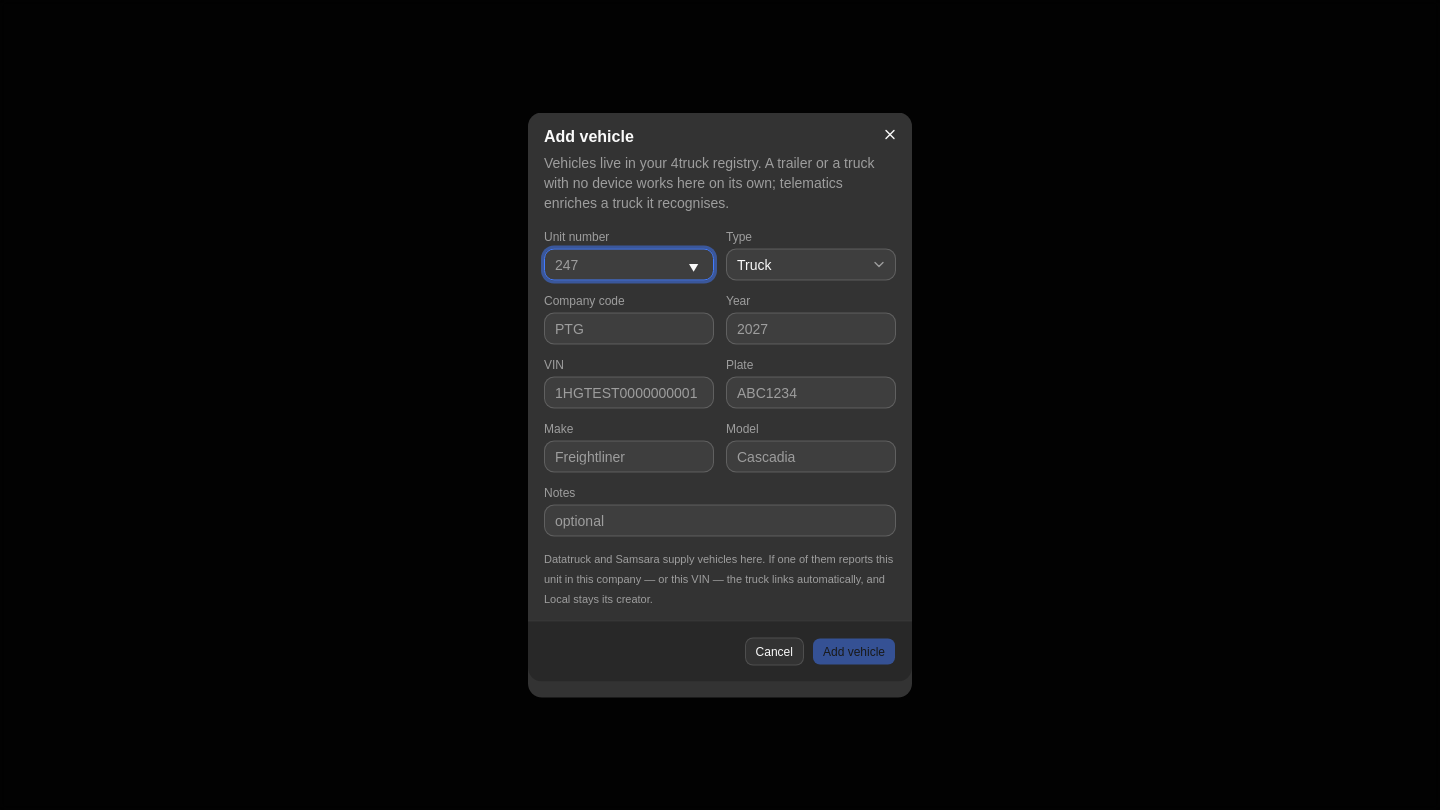
Test: Add vehicle — matching the typed identity › names the company that was typed, not the first row that matched
Type "103" into the field with placeholder "247" at (629, 264), box [544,248,714,280]
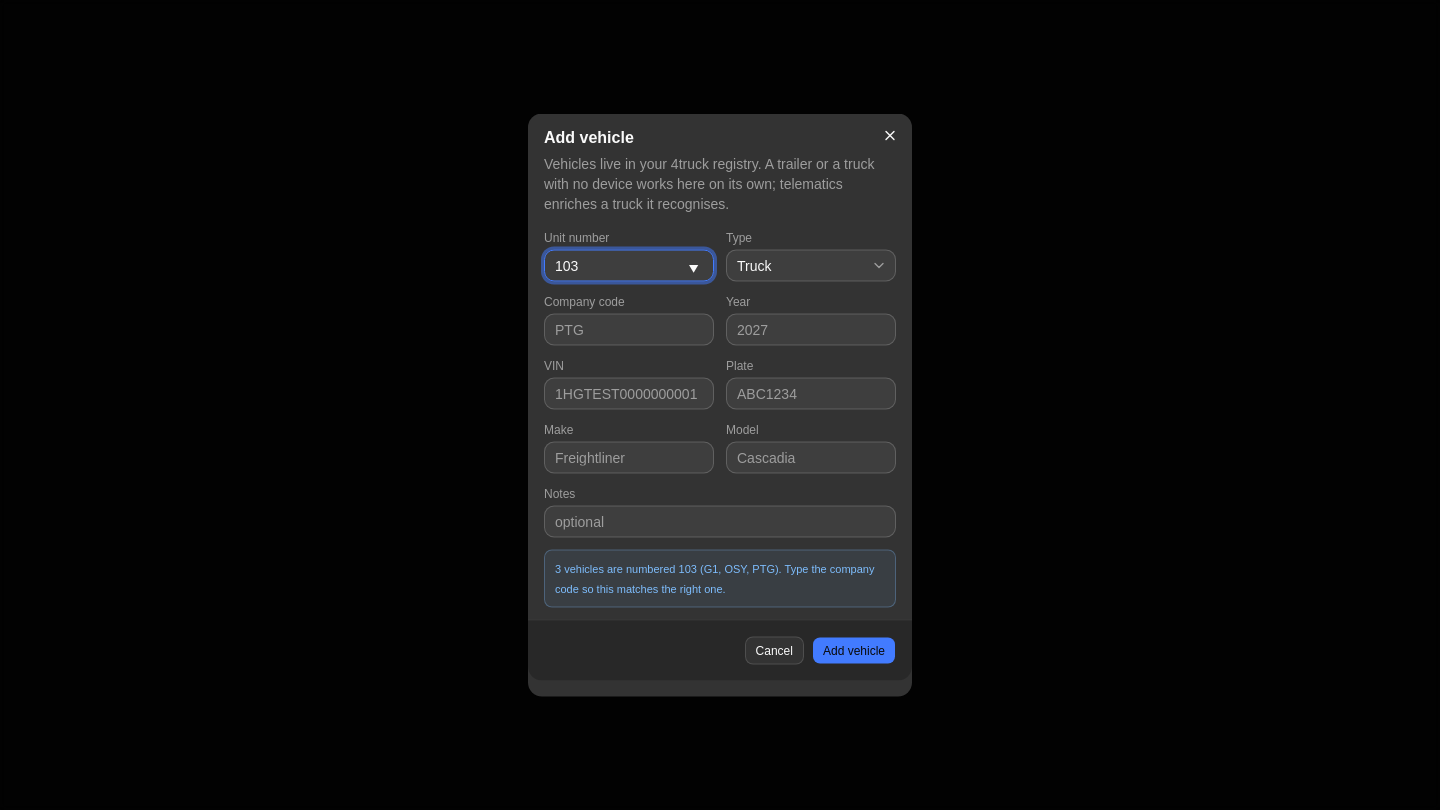
Type "OSY" into the field with placeholder "PTG" at (629, 330), box [544,314,714,346]
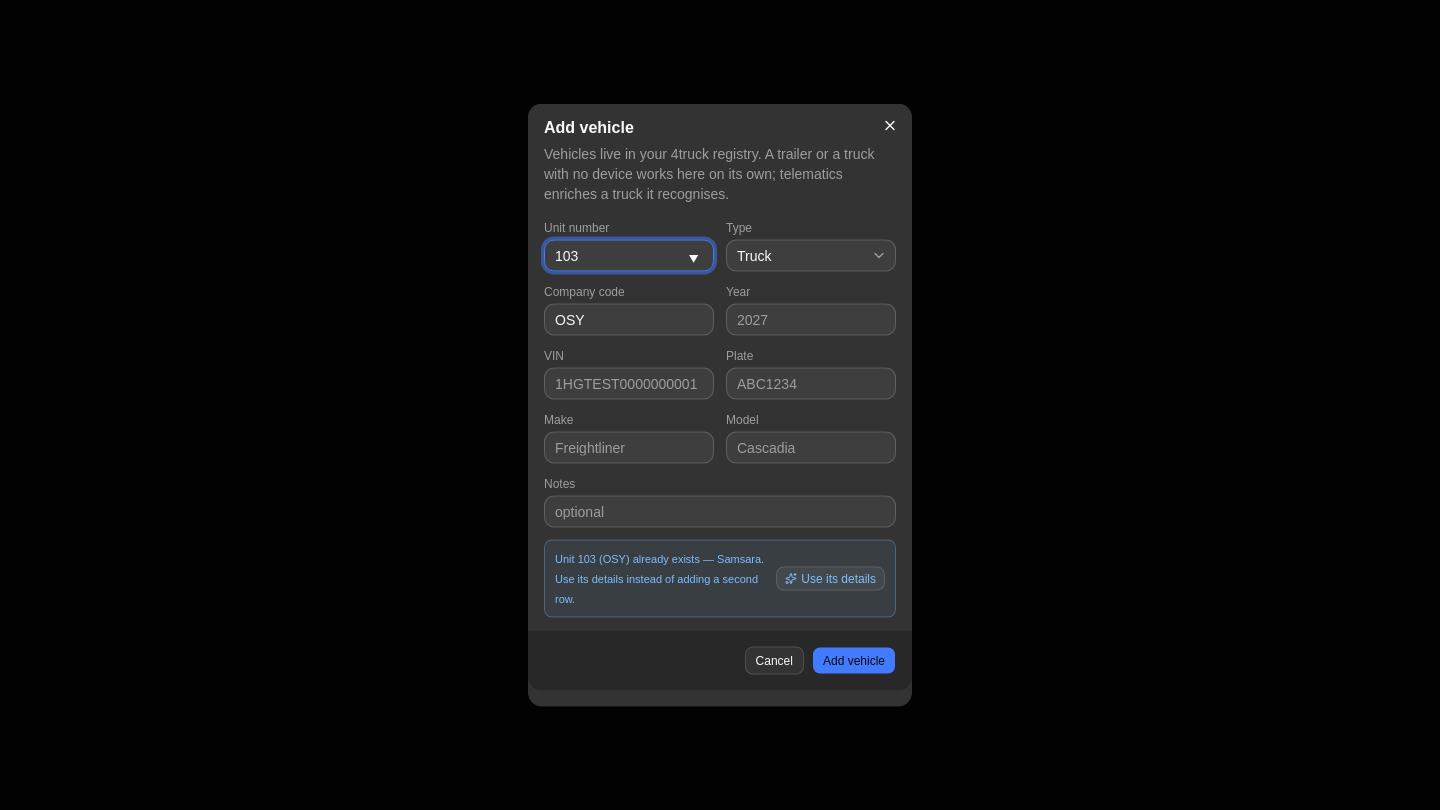
expect the text "OSY" is shown: met, box [596,552,630,564]
expect the text "already exists" is shown: met, box [633,552,700,564]
expect the text "G1" is gone: met
